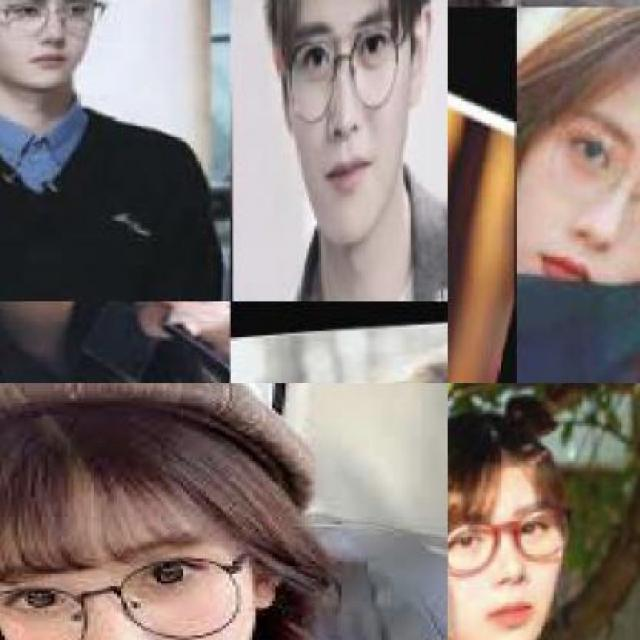glasses: (0, 543, 257, 639), (281, 15, 414, 120), (518, 119, 640, 209), (448, 504, 570, 576), (0, 0, 108, 42)
